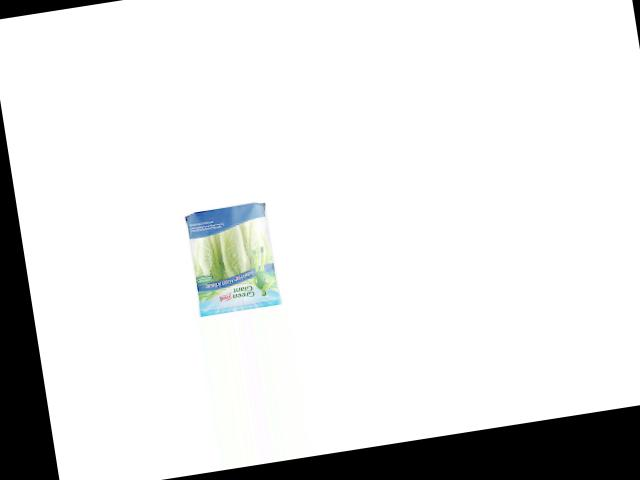lettuce: (182, 196, 283, 312)
